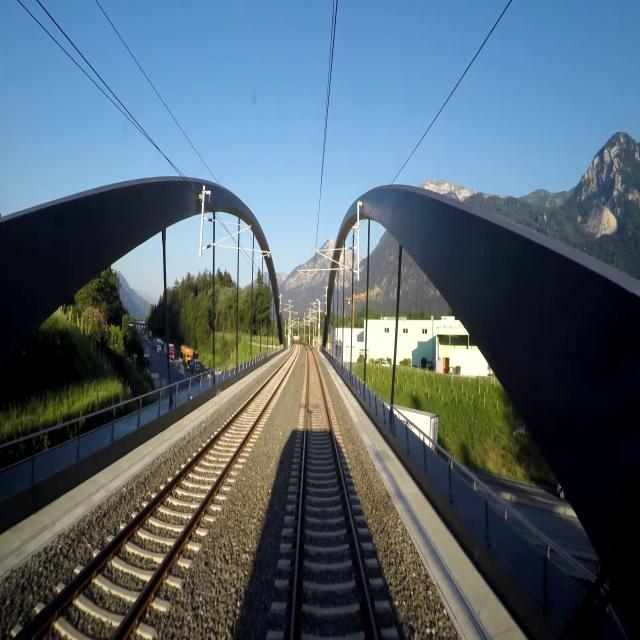rail-track: (18, 347, 297, 639), (295, 350, 373, 639)
